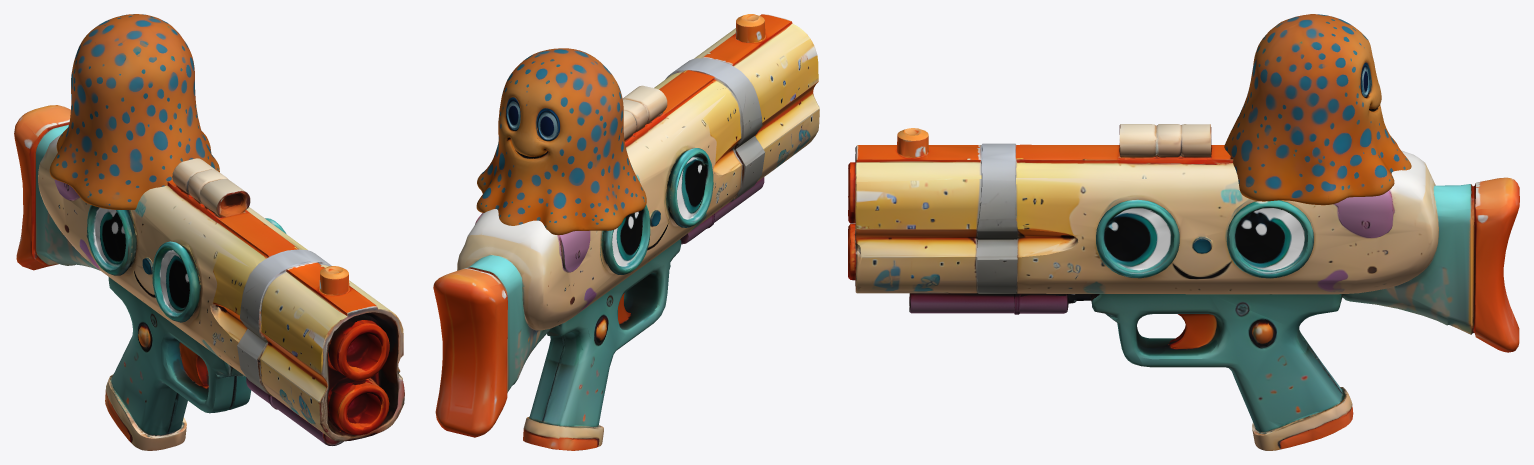
File: LongCartoonGun_1.fbx
3 renders of one model, left to right at view 1: azimuth 30°, elevation 25°; view 2: azimuth 150°, elevation 25°; view 3: azimuth 270°, elevation 25°, orthographic. The views are drawn at different scales.
Visible parts, largest first — view 1: model, texture_pbr_v128; view 2: model, texture_pbr_v128; view 3: model, texture_pbr_v128.
Part boxes in pixels (<box>): model: <box>14,105,404,450</box>; texture_pbr_v128: <box>49,14,219,209</box>; model: <box>433,14,819,450</box>; texture_pbr_v128: <box>476,48,646,235</box>; model: <box>848,124,1519,450</box>; texture_pbr_v128: <box>1224,14,1411,205</box>.
Bounding box in the file's own units: 21.55 × 57.38 × 83.61.
Materials: 2 (2 with a texture image).
